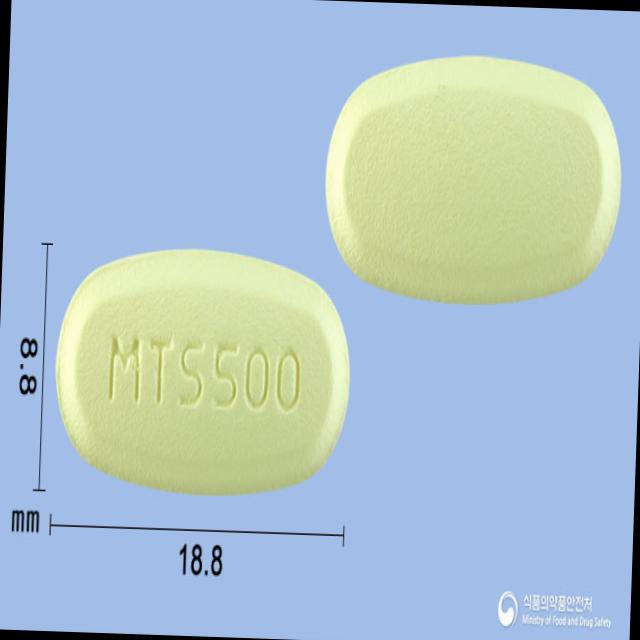Clarimacin: (44, 242, 359, 506)
